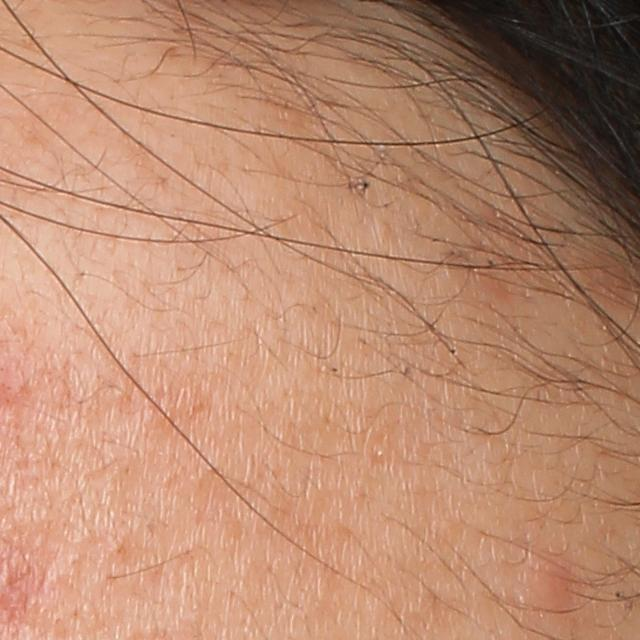papule: (529, 560, 572, 612)
